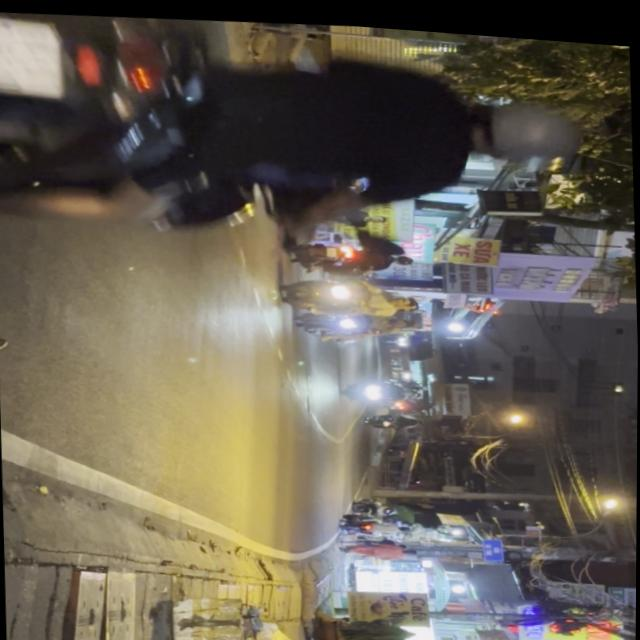helmet: (468, 85, 577, 160)
licenseplate: (0, 0, 584, 265)
nohelmet: (0, 15, 65, 95)
